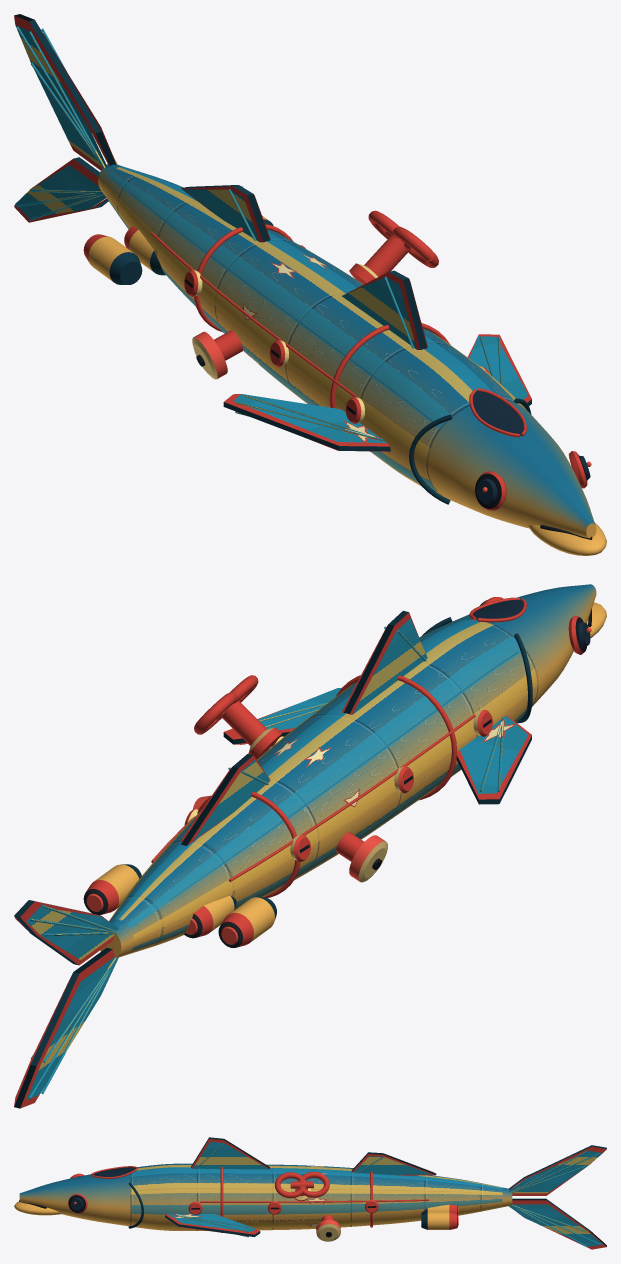
3 renders of one model, top to bottom at view 1: azimuth 30°, elevation 25°; view 2: azimuth 150°, elevation 25°; view 3: azimuth 270°, elevation 25°, orthographic. The views are drawn at different scales.
Parts seen in each view (by area): view 1: barracuda_hull; view 2: barracuda_hull; view 3: barracuda_hull.
Part boxes in pixels (x1,y1,x2,y2): barracuda_hull: (14,14,606,555); barracuda_hull: (14,584,606,1108); barracuda_hull: (14,1137,606,1249).
Size of the model in its own units: 10.99 by 8.25 by 40.
1 material, 1 textured.
